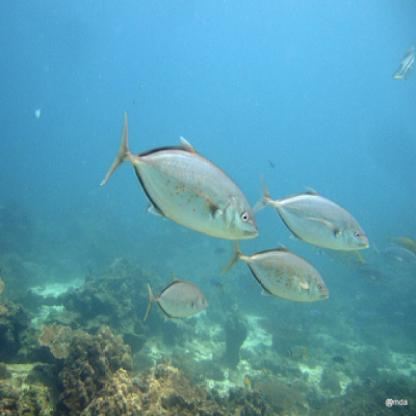jack: (93, 96, 265, 247), (247, 171, 372, 253), (221, 236, 331, 310), (141, 273, 216, 325)
